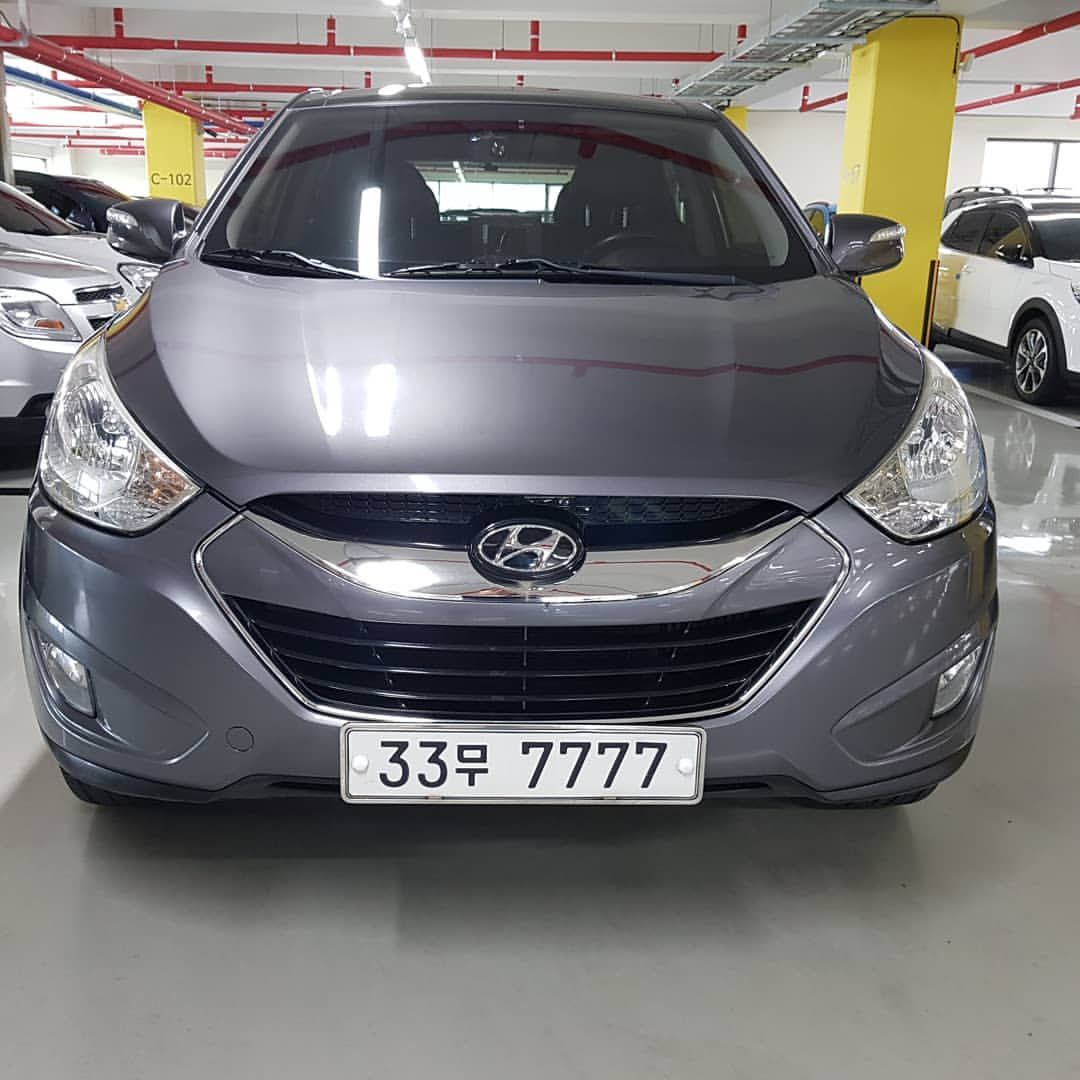plate: (345, 729, 699, 799)
